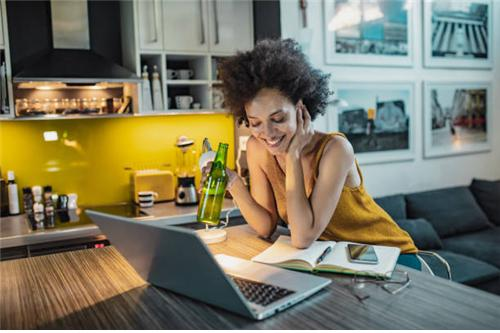alcohol: (194, 144, 230, 225)
